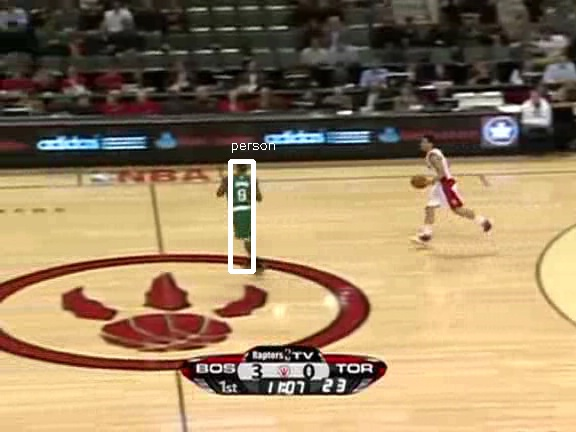person: (224, 164, 258, 245), (223, 164, 257, 245), (225, 164, 259, 245), (224, 163, 258, 244), (224, 165, 258, 246)
target_negative: (116, 7, 481, 327), (81, 208, 539, 377), (63, 354, 416, 424), (324, 111, 380, 400), (9, 396, 95, 407), (445, 416, 452, 424)
